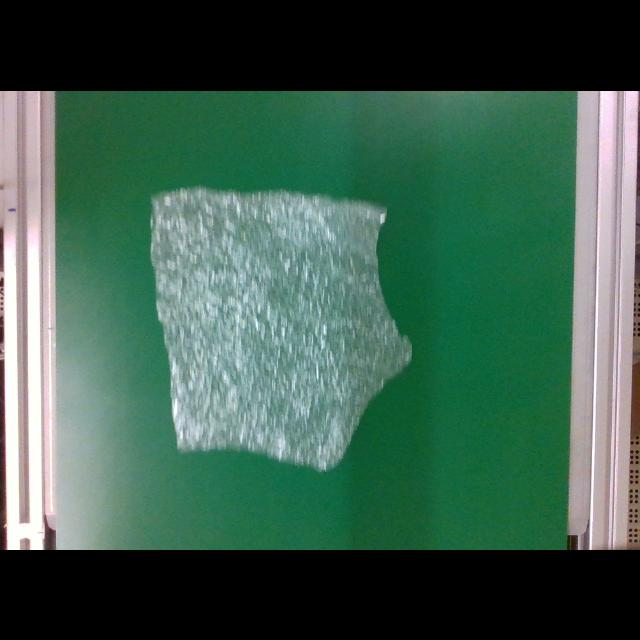scrap_plastic: (148, 181, 412, 477)
